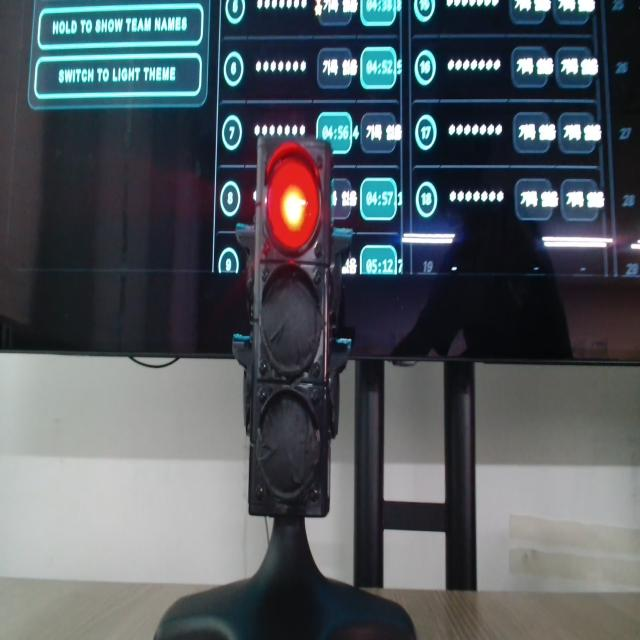red_light: (267, 143, 319, 251)
